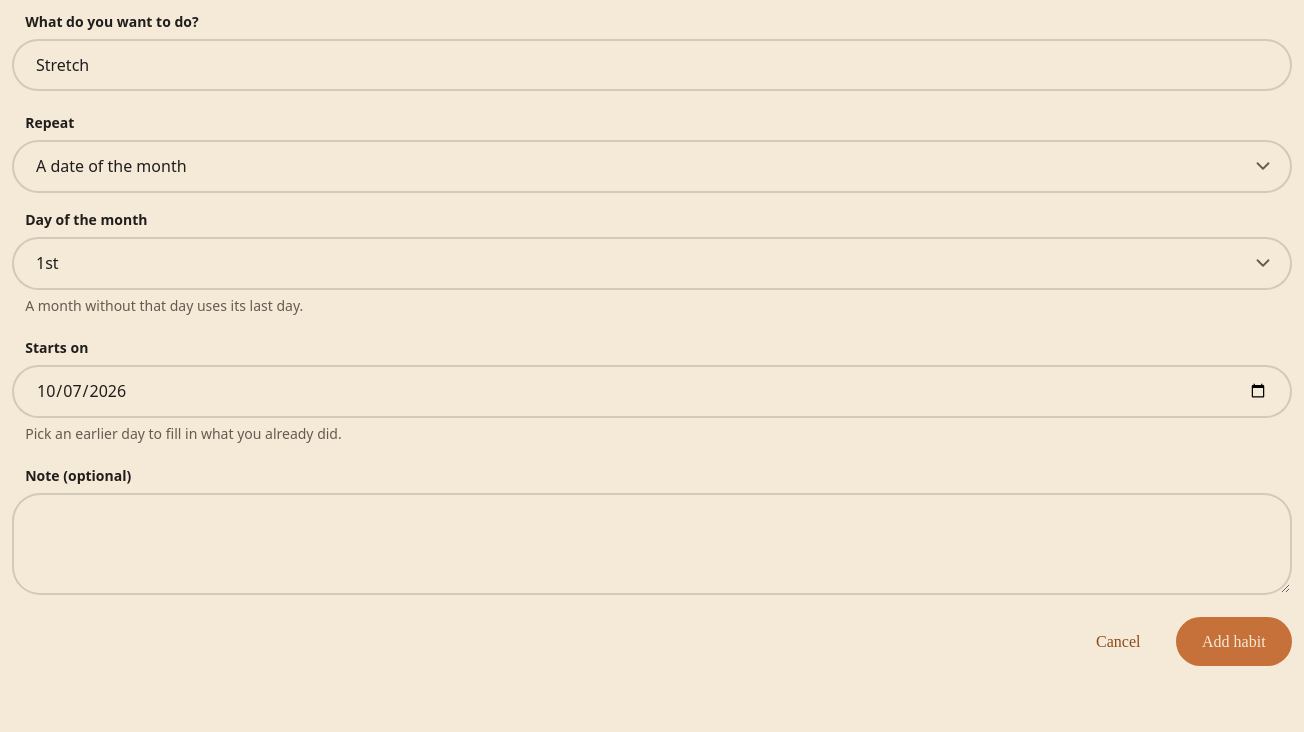
it: HabitForm: the repeat rule › does not send monthlyOnDate with Day of the month and says why
Click the button "Add habit": click(1234, 642) [1176,617,1292,666]
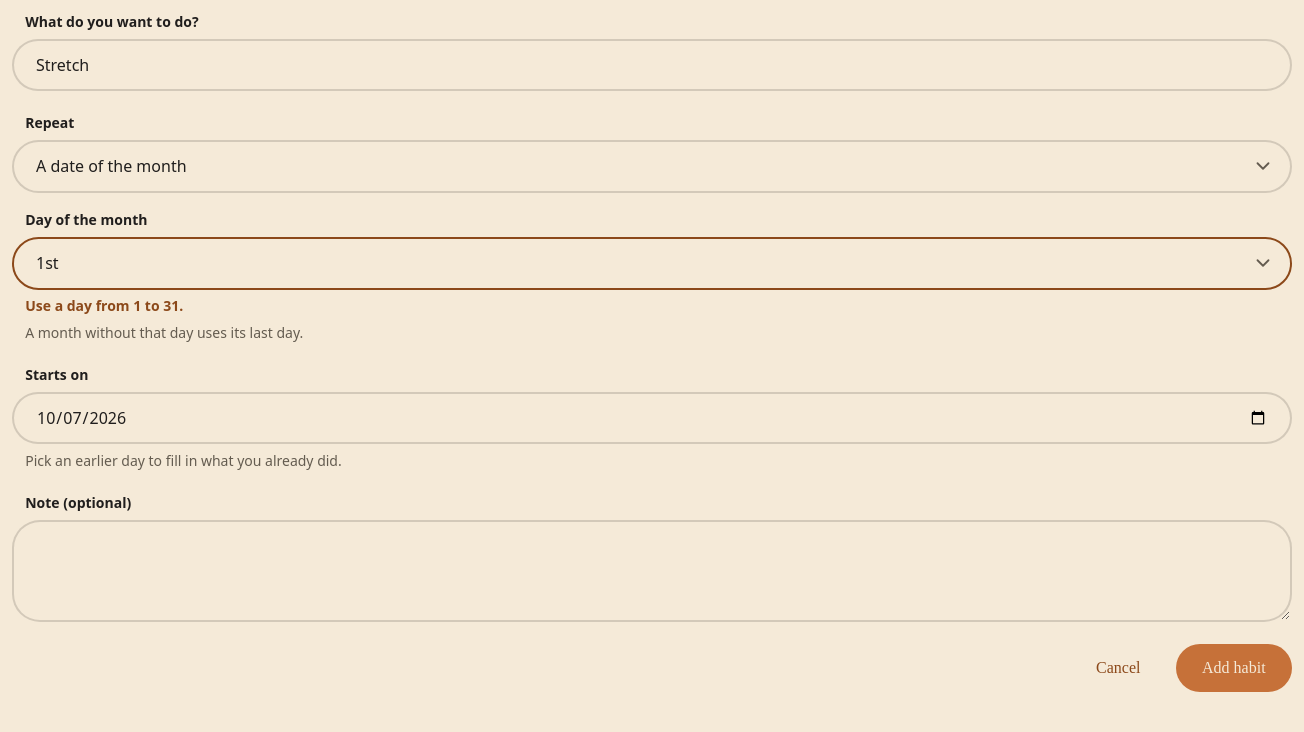
Check: the text "Use a day from 1 to 31." is shown, box [25,296,183,315]
